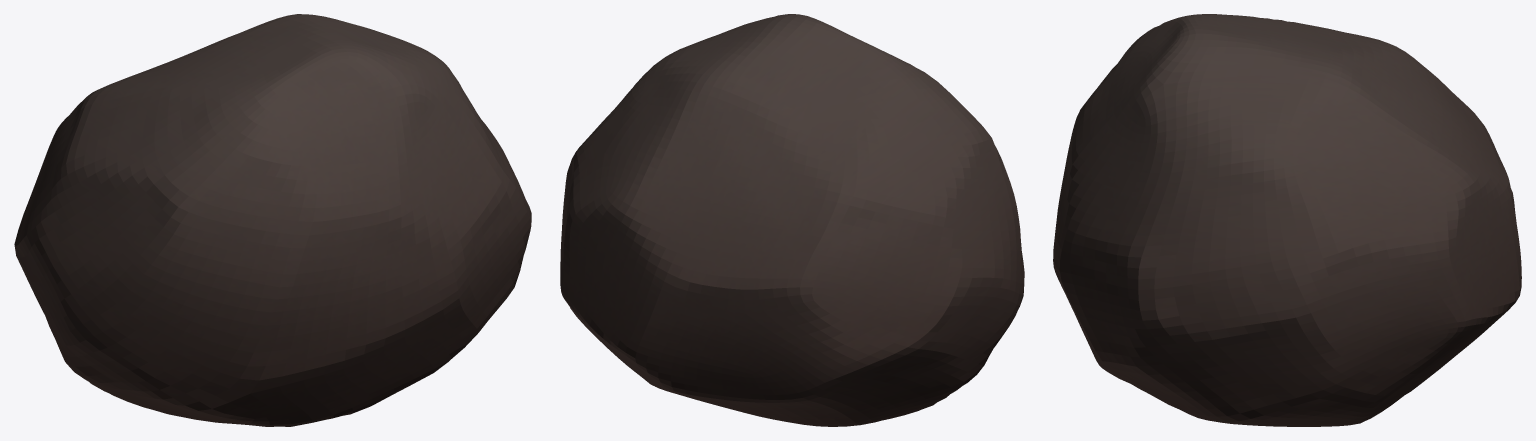
File: Rock9_Textured.fbx
3 views of the same model, side by side, from view 1: azimuth 30°, elevation 25°; view 2: azimuth 150°, elevation 25°; view 3: azimuth 270°, elevation 25° (orthographic). The views are drawn at different scales.
Visible parts, largest first — view 1: GameJam_Rock2_ModelZbrush:Group52281; view 2: GameJam_Rock2_ModelZbrush:Group52281; view 3: GameJam_Rock2_ModelZbrush:Group52281.
Part boxes in pixels (x1=…): GameJam_Rock2_ModelZbrush:Group52281: x1=14, y1=14, x2=531, y2=426; GameJam_Rock2_ModelZbrush:Group52281: x1=560, y1=14, x2=1024, y2=426; GameJam_Rock2_ModelZbrush:Group52281: x1=1053, y1=14, x2=1521, y2=426.
Bounding box in the file's own units: 1.2 × 0.9126 × 1.07.
1 material, 1 textured.
